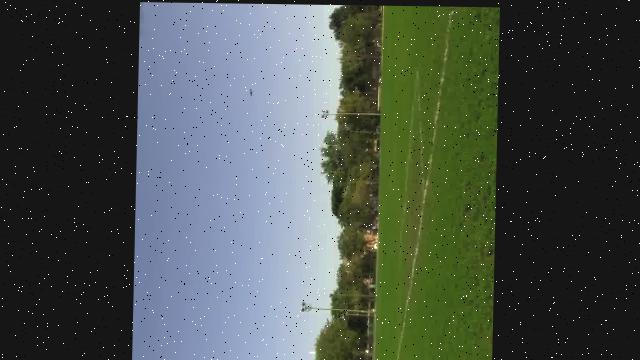drone: (242, 83, 261, 101)
